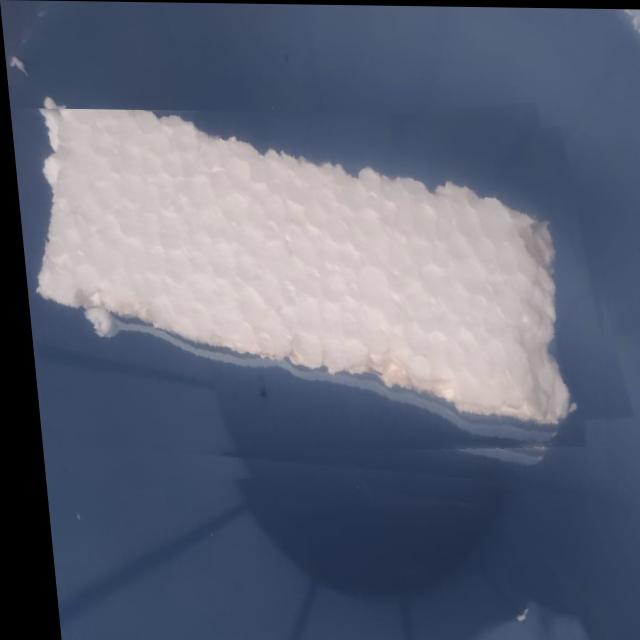thermocoal: (8, 108, 591, 487), (57, 140, 621, 477)
